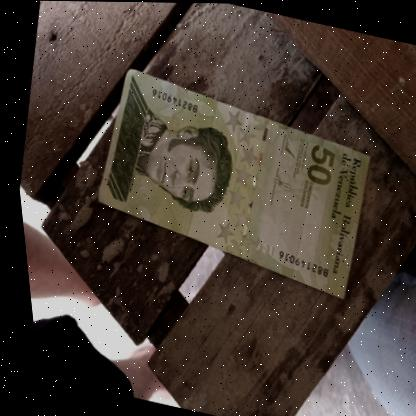fifty-front-vef: (72, 62, 387, 301)
